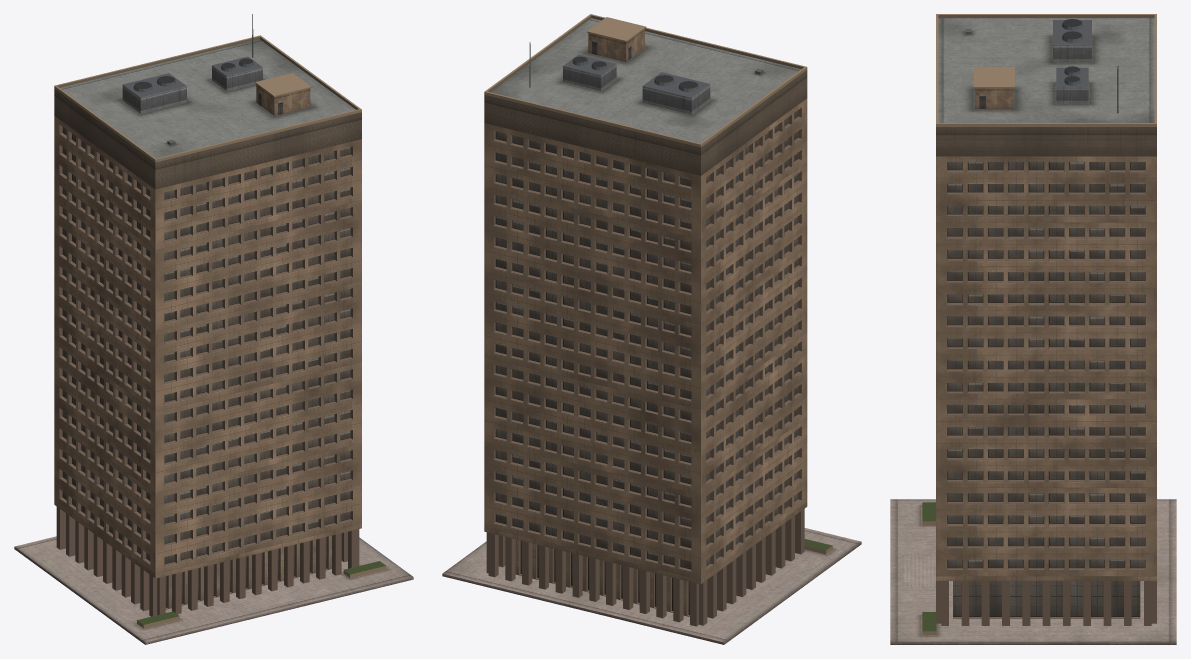
The model's file is seattle_officeslab_b.glb.
The picture shows the model from 3 angles, left to right: view 1: azimuth 30°, elevation 25°; view 2: azimuth 150°, elevation 25°; view 3: azimuth 270°, elevation 25°; orthographic projection. The views are drawn at different scales.
Parts seen in each view (by area): view 1: seattle_officeslab_b; view 2: seattle_officeslab_b; view 3: seattle_officeslab_b.
Boxes of the visible parts, bbox=[...] form: seattle_officeslab_b: bbox=[14, 14, 413, 644]; seattle_officeslab_b: bbox=[442, 14, 861, 644]; seattle_officeslab_b: bbox=[890, 14, 1176, 644].
Bounding box in the file's own units: 52 × 93.1 × 44.
1 material, 1 textured.
